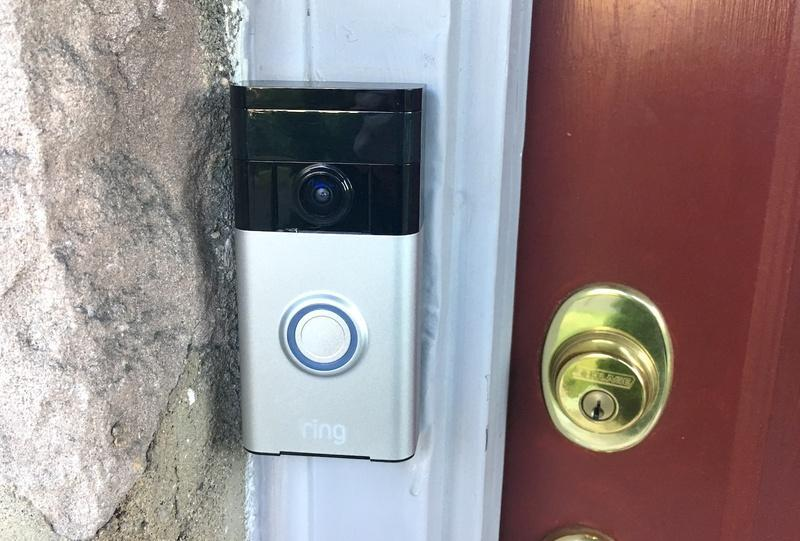doorbell: (219, 63, 426, 479)
